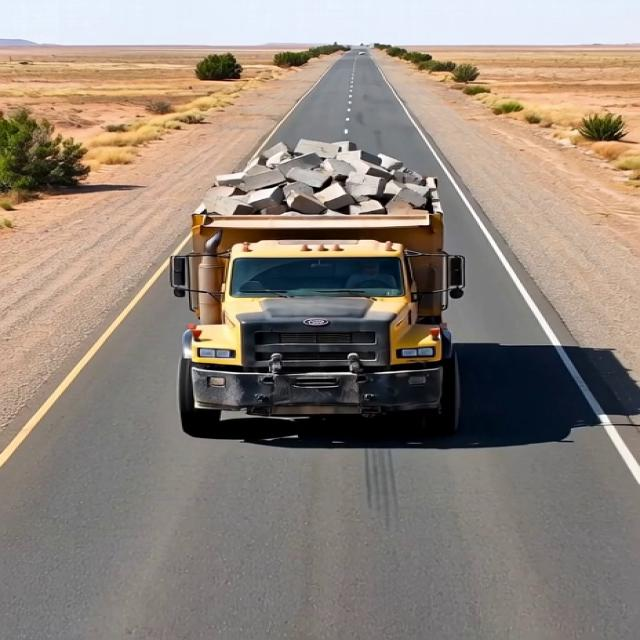Box: (196, 136, 442, 238)
Truck: (148, 113, 485, 431)
